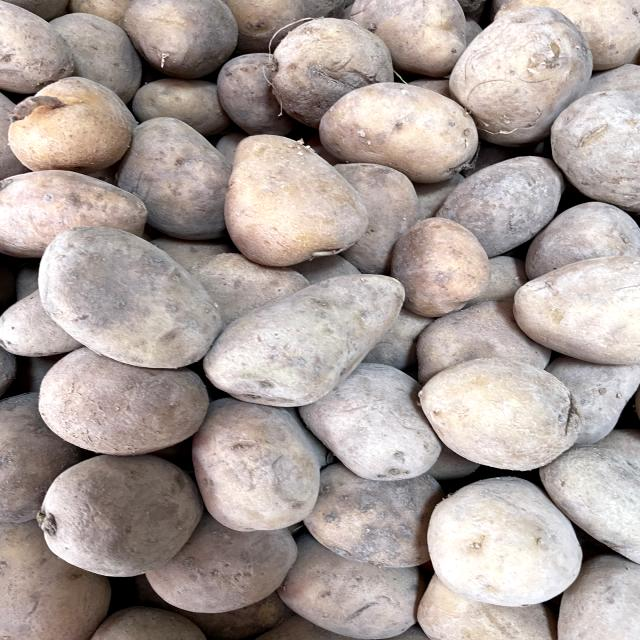potato: (201, 258, 431, 409), (23, 216, 221, 370), (424, 468, 592, 614), (30, 443, 206, 579), (212, 116, 375, 259), (184, 385, 331, 537), (313, 79, 496, 182), (5, 73, 152, 174), (387, 212, 496, 320)
